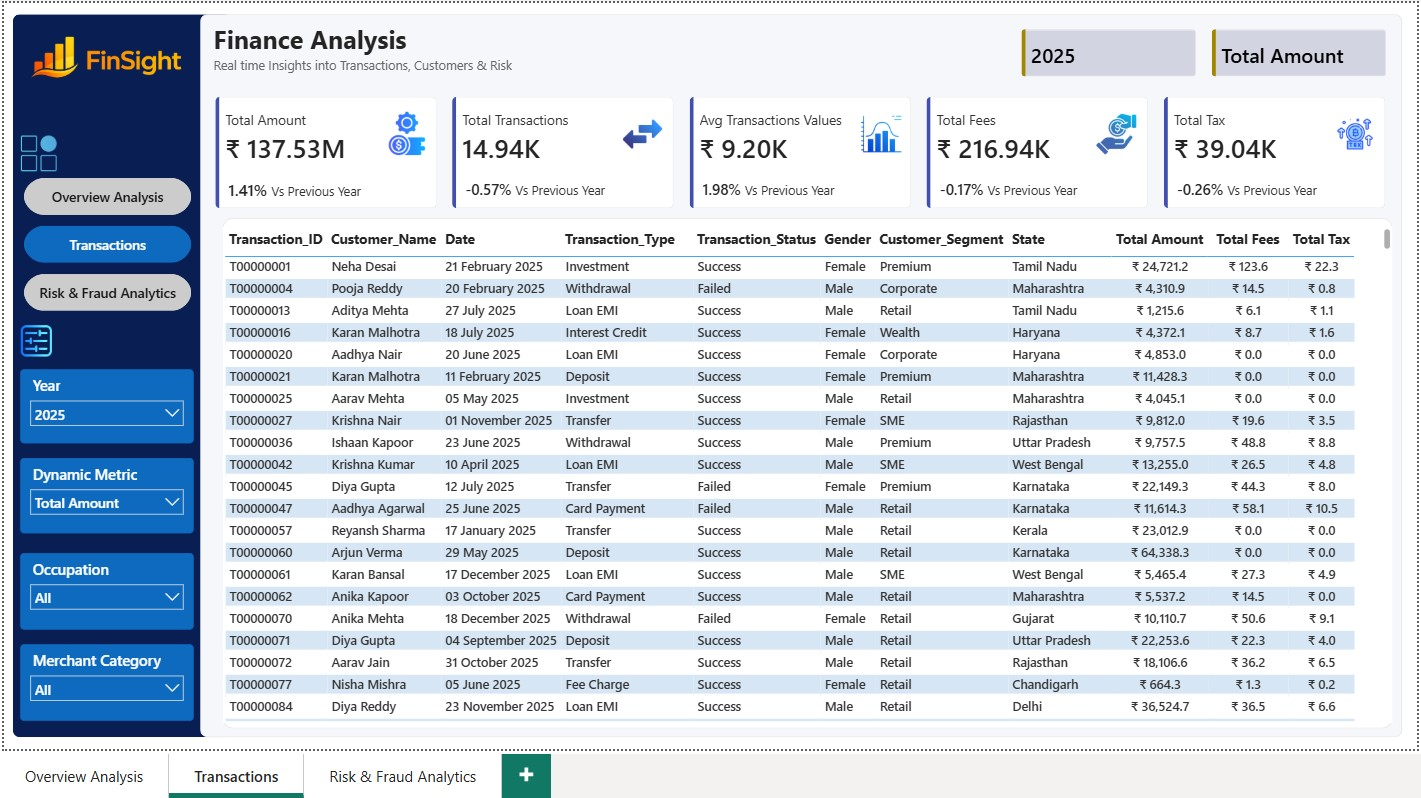

What the dashboard file says about the page in this screenshot:
{"tool":"powerbi","page":{"name":"Transactions","canvas":[1800,950],"ordinal":1},"visuals":[{"type":"shape","box":[11.4,14.7,279.6,920.6],"z":0},{"type":"shape","box":[250.2,14.7,1530.5,920.6],"z":1000},{"type":"image","box":[27.8,27.8,210.9,85],"z":2000},{"type":"cardVisual","fields":{"Data":["finance_transactions.Dashboard Title"]},"box":[250.2,14.7,421.9,85],"z":3000},{"type":"cardVisual","fields":{"Data":["All Measures.Total Amount","All Measures.Total Transactions","All Measures.Avg Transactions Values","All Measures.Total Fees","All Measures.Total Tax"]},"box":[263.2,112.3,1505.3,154.4],"z":4000},{"type":"image","box":[486.1,138.9,55.6,55.6],"z":5000},{"type":"image","box":[786.5,140.6,53.8,53.8],"z":6000},{"type":"image","box":[1090.3,140.6,53.8,53.8],"z":7000},{"type":"image","box":[1388.9,140.6,53.8,53.8],"z":8000},{"type":"image","box":[1694.4,140.6,53.8,53.8],"z":9000},{"type":"shape","box":[277.8,274.3,1489.6,650],"z":10000},{"type":"cardVisual","fields":{"Data":["All Measures.Selected Dynammic Year","All Measures.Selected Dynamic Measures"]},"box":[1291.2,28.1,475.4,70.2],"z":11000},{"type":"tableEx","fields":{"Values":["finance_transactions.transaction_id","customers.customer_name","Calander Table.Date","finance_transactions.transaction_type","finance_transactions.transaction_status","customers.gender","customers.customer_segment","customers.state","All Measures.Total Amount","All Measures.Total Fees","All Measures.Total Tax"]},"box":[277.8,284.7,1489.6,631.9],"z":12000},{"type":"slicer","fields":{"Values":["Calander Table.Year"]},"box":[19.9,467.1,220.5,94.5],"z":13000},{"type":"slicer","fields":{"Values":["Parameter.Parameter"]},"box":[19.9,579.1,220.5,96.2],"z":14000},{"type":"slicer","fields":{"Values":["customers.occupation"]},"box":[19.9,699.8,220.5,98],"z":15000},{"type":"slicer","fields":{"Values":["finance_transactions.merchant_category"]},"box":[19.9,817.1,220.5,98],"z":16000},{"type":"image","box":[17.5,168,54.2,45.5],"z":17000},{"type":"image","box":[14,407.7,54.2,45.5],"z":18000},{"type":"pageNavigator","box":[26,223.5,213.1,169.8],"z":19000}]}

Visuals, with their boxes on the page's 1800x950 design canvas (x1, y1, x2, y2). These are canvas units, not pixel positions in the 1421x798 screenshot, which may show the page scaled, cropped or inside an application window:
shape: <box>11,15,291,935</box>
shape: <box>250,15,1781,935</box>
image: <box>28,28,239,113</box>
cardVisual - finance_transactions.Dashboard Title: <box>250,15,672,100</box>
cardVisual - All Measures.Total Amount x All Measures.Total Transactions: <box>263,112,1768,267</box>
image: <box>486,139,542,194</box>
image: <box>786,141,840,194</box>
image: <box>1090,141,1144,194</box>
image: <box>1389,141,1443,194</box>
image: <box>1694,141,1748,194</box>
shape: <box>278,274,1767,924</box>
cardVisual - All Measures.Selected Dynammic Year x All Measures.Selected Dynamic Measures: <box>1291,28,1767,98</box>
tableEx - finance_transactions.transaction_id x customers.customer_name: <box>278,285,1767,917</box>
slicer - Calander Table.Year: <box>20,467,240,562</box>
slicer - Parameter.Parameter: <box>20,579,240,675</box>
slicer - customers.occupation: <box>20,700,240,798</box>
slicer - finance_transactions.merchant_category: <box>20,817,240,915</box>
image: <box>18,168,72,214</box>
image: <box>14,408,68,453</box>
pageNavigator: <box>26,224,239,393</box>
